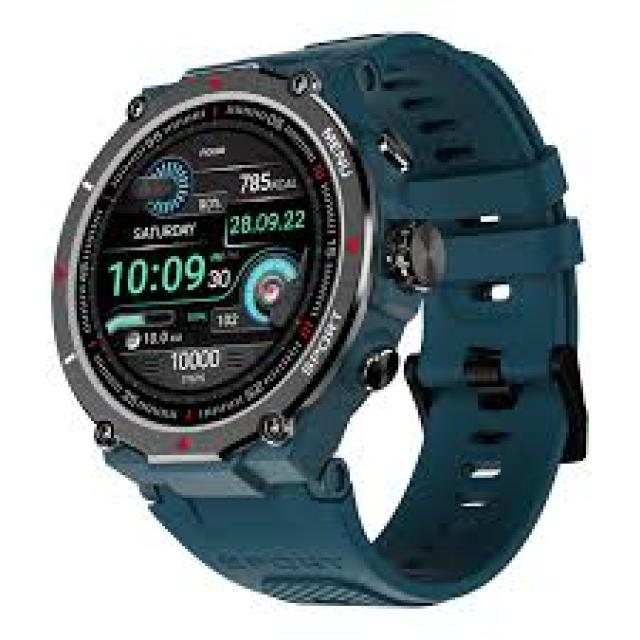objects: (54, 30, 589, 609)
